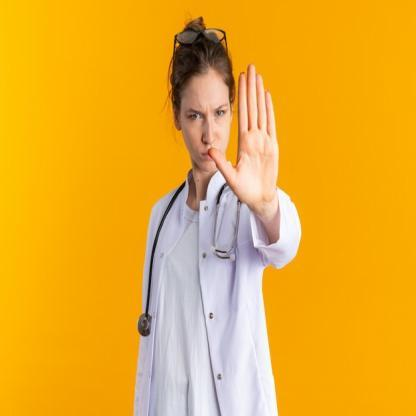stop: (207, 61, 285, 210)
